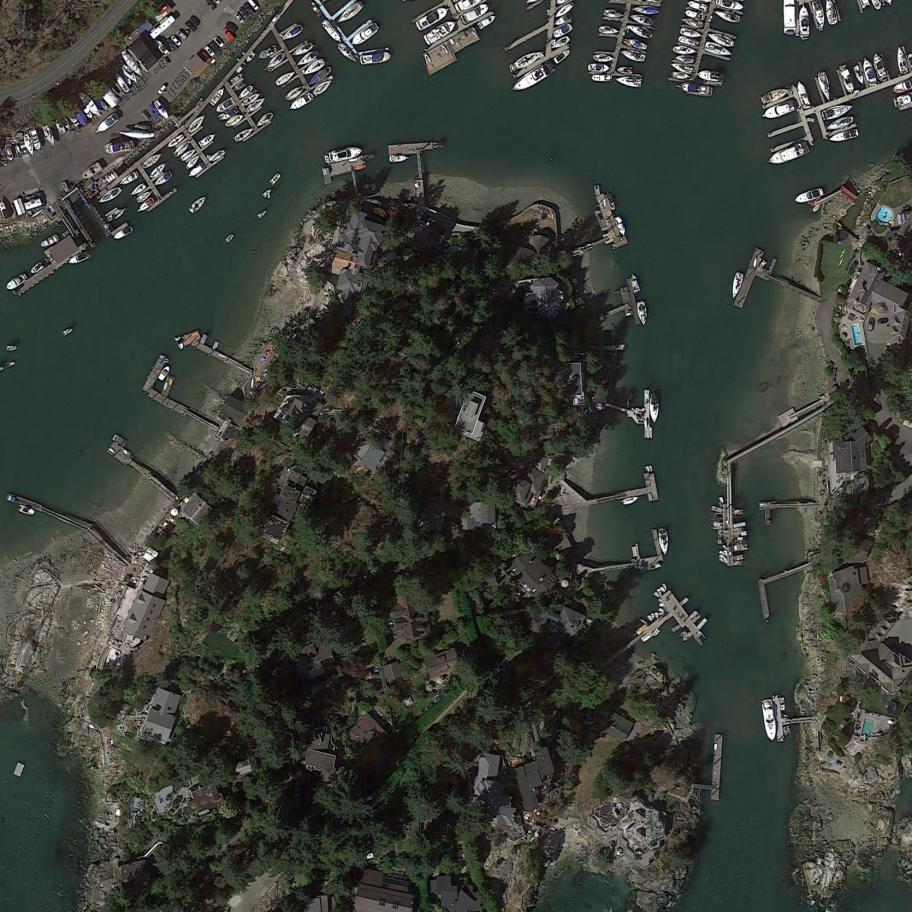large-vehicle: (149, 15, 177, 40), (64, 107, 80, 128)
ship: (510, 60, 556, 95), (422, 18, 460, 46), (765, 143, 805, 169), (414, 5, 452, 32), (349, 21, 381, 48), (459, 1, 492, 26), (760, 100, 797, 122), (511, 49, 545, 72), (335, 1, 365, 27), (820, 101, 855, 122), (761, 699, 778, 742), (323, 146, 363, 164), (120, 49, 145, 77), (320, 17, 345, 45), (306, 65, 335, 88), (676, 81, 714, 97), (77, 91, 101, 116), (94, 112, 119, 136), (838, 63, 857, 94), (703, 41, 734, 60), (707, 30, 737, 49), (287, 92, 315, 112), (824, 115, 855, 133), (861, 57, 879, 88), (816, 70, 834, 101), (760, 87, 791, 105), (336, 41, 360, 64), (794, 187, 824, 205), (295, 49, 322, 69), (311, 77, 335, 99), (4, 272, 29, 293), (871, 54, 889, 83), (828, 128, 860, 144), (186, 112, 208, 135), (728, 271, 746, 299), (627, 22, 655, 40), (302, 57, 327, 77), (796, 80, 812, 111), (97, 186, 123, 205), (713, 7, 742, 24), (187, 193, 209, 215), (80, 161, 104, 181), (894, 45, 910, 75), (620, 47, 648, 64), (245, 95, 268, 115), (264, 51, 287, 71), (274, 69, 298, 88), (290, 41, 315, 59), (102, 140, 134, 154), (822, 0, 839, 26), (623, 35, 649, 52), (120, 63, 140, 85), (141, 151, 164, 170), (112, 70, 131, 93), (280, 24, 304, 42), (71, 104, 89, 128), (149, 160, 169, 181), (784, 1, 796, 36), (360, 52, 392, 65), (284, 84, 307, 102), (698, 69, 725, 84), (628, 12, 655, 27), (173, 138, 193, 158), (153, 170, 174, 189), (554, 1, 575, 20), (224, 112, 246, 130), (112, 224, 134, 242), (232, 127, 255, 144), (68, 250, 92, 266), (254, 111, 275, 129), (197, 131, 218, 149), (209, 87, 227, 108), (552, 47, 573, 65), (257, 44, 279, 61), (552, 23, 574, 40), (636, 300, 650, 326), (616, 75, 644, 88), (799, 5, 810, 38), (187, 161, 207, 179), (153, 38, 171, 58), (241, 91, 262, 108), (308, 0, 325, 21), (550, 34, 571, 51), (38, 233, 60, 249), (658, 527, 670, 556), (42, 124, 57, 147), (135, 197, 155, 214), (153, 100, 170, 120), (106, 206, 127, 222), (477, 14, 498, 30), (670, 61, 694, 75), (28, 128, 43, 150), (22, 133, 36, 156), (684, 8, 707, 22), (207, 148, 227, 164), (852, 63, 866, 85), (237, 84, 255, 101), (221, 106, 240, 122), (166, 134, 185, 150), (135, 188, 154, 204), (119, 172, 139, 187), (649, 392, 659, 422), (613, 216, 628, 236), (680, 17, 705, 29), (680, 27, 703, 40), (185, 153, 201, 171), (687, 0, 708, 13), (179, 148, 197, 163), (157, 364, 172, 382), (53, 117, 67, 136), (80, 103, 94, 122), (553, 13, 572, 27), (678, 35, 700, 47), (672, 46, 698, 56), (130, 182, 147, 197), (29, 261, 45, 276), (17, 504, 36, 516), (605, 193, 617, 212), (229, 72, 245, 86), (631, 6, 659, 14), (630, 273, 641, 293), (588, 63, 610, 73), (268, 172, 282, 187), (622, 495, 640, 506), (598, 26, 620, 35), (603, 10, 625, 19), (232, 80, 247, 93), (174, 335, 186, 351), (389, 154, 410, 163), (671, 71, 692, 80), (244, 50, 257, 64), (5, 144, 15, 162), (60, 115, 72, 130), (675, 54, 695, 63), (592, 54, 614, 62), (235, 61, 248, 74), (591, 75, 612, 83), (158, 352, 171, 364), (224, 232, 236, 244), (617, 66, 633, 75), (62, 327, 75, 337), (262, 188, 273, 199), (257, 209, 268, 220), (59, 229, 70, 240), (651, 627, 661, 638), (440, 44, 449, 56), (779, 696, 786, 711), (423, 53, 432, 64), (759, 260, 768, 269), (6, 345, 18, 351), (6, 361, 16, 368), (653, 592, 661, 600), (658, 586, 666, 594), (112, 171, 120, 179), (646, 614, 653, 623), (655, 589, 662, 598), (718, 495, 725, 504), (508, 64, 515, 73), (783, 727, 789, 737), (661, 584, 668, 592), (643, 465, 650, 473), (110, 173, 117, 181), (105, 177, 112, 185), (657, 607, 666, 613), (107, 175, 114, 182), (654, 612, 660, 620), (648, 464, 654, 472), (786, 726, 791, 735), (658, 603, 665, 608), (650, 613, 655, 620), (658, 612, 664, 616)
small-vehicle: (164, 37, 179, 53), (222, 28, 236, 42), (243, 2, 256, 17), (185, 20, 198, 33), (225, 21, 238, 34), (238, 6, 250, 19), (234, 11, 246, 24), (189, 15, 202, 27), (170, 35, 183, 47), (204, 45, 216, 58), (176, 29, 188, 41), (213, 36, 225, 48), (209, 41, 221, 53), (157, 84, 168, 95), (868, 318, 875, 332), (877, 318, 889, 325)
